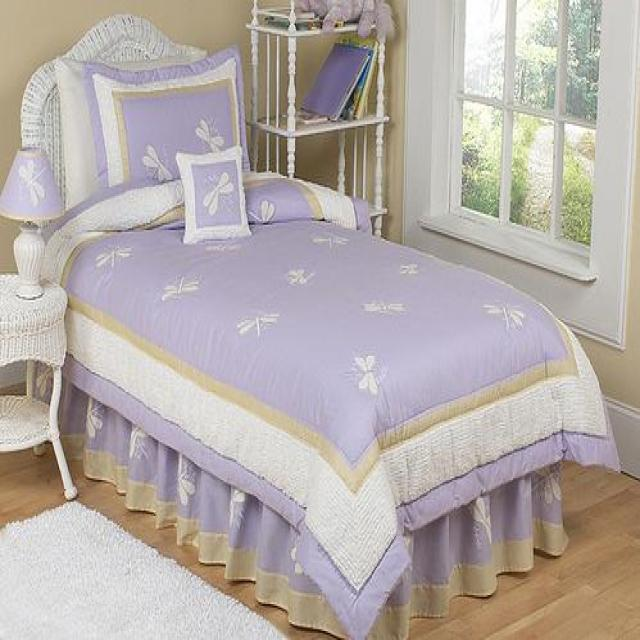bed: (19, 11, 620, 638)
table: (0, 270, 77, 500)
